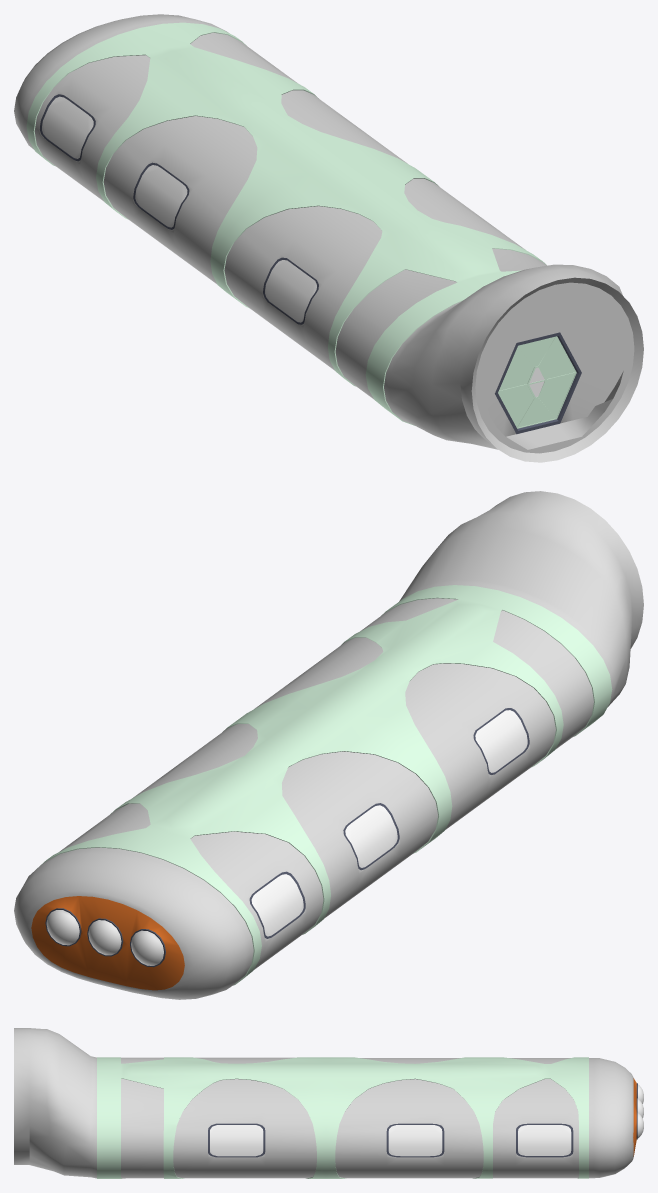
File: Ground_Passenger_Pod-Block.glb
The picture shows the model from 3 angles, top to bottom: view 1: azimuth 30°, elevation 25°; view 2: azimuth 150°, elevation 25°; view 3: azimuth 270°, elevation 25°; orthographic projection. The views are drawn at different scales.
Visible parts, largest first — view 1: Ground_Passenger_Pod_LOD0, PassengerPod_Hatch_LOD0; view 2: Ground_Passenger_Pod_LOD0; view 3: Ground_Passenger_Pod_LOD0.
Part boxes in pixels (x1,y1,x2,y2): Ground_Passenger_Pod_LOD0: (14, 14, 643, 462); PassengerPod_Hatch_LOD0: (498, 336, 576, 428); Ground_Passenger_Pod_LOD0: (14, 491, 643, 999); Ground_Passenger_Pod_LOD0: (14, 1028, 643, 1178).
Size of what is drawn, in the model's own units: 5.36 by 4.06 by 18.61.
